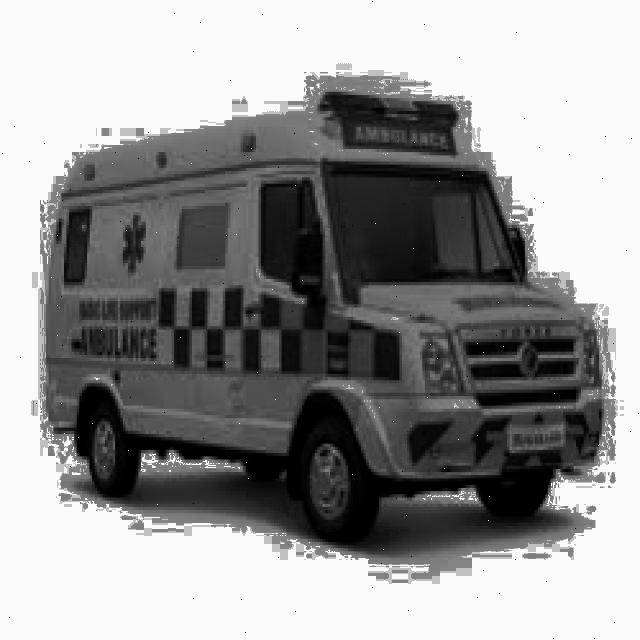LCV: (290, 93, 606, 479)
